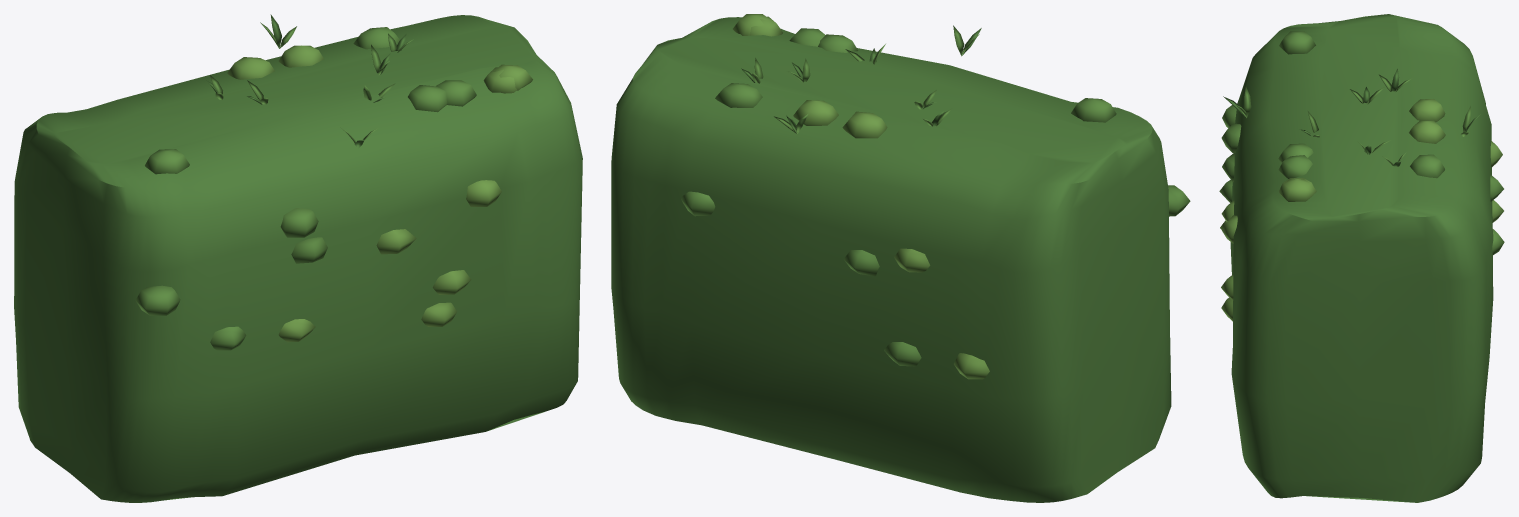
The model's file is hedge.glb.
3 views of the same model, side by side, from view 1: azimuth 30°, elevation 25°; view 2: azimuth 150°, elevation 25°; view 3: azimuth 270°, elevation 25° (orthographic). The views are drawn at different scales.
Visible parts, largest first — view 1: hedge, sprigs; view 2: hedge, sprigs; view 3: hedge, sprigs.
Part boxes in pixels (bbox=[...]): hedge: bbox=[14, 15, 582, 502]; sprigs: bbox=[206, 14, 413, 148]; hedge: bbox=[611, 14, 1190, 502]; sprigs: bbox=[741, 25, 981, 134]; hedge: bbox=[1219, 14, 1504, 502]; sprigs: bbox=[1223, 68, 1480, 166].
Size of the model in its own units: 1.55 by 1.15 by 0.92.
